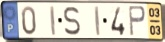0: (20, 4, 38, 37)
4: (110, 5, 127, 37)
I: (93, 5, 102, 37), (49, 5, 57, 37)
P: (127, 5, 147, 38)
S: (63, 6, 82, 37)
